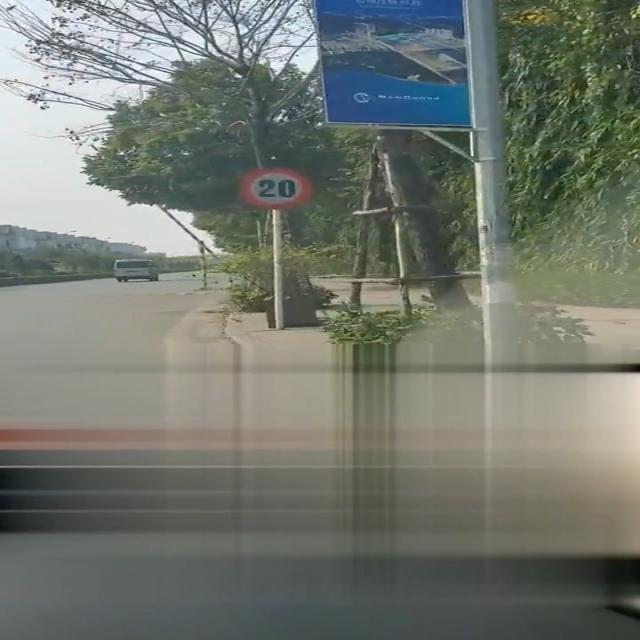127-toc-do-toi-da-20: (236, 167, 312, 210)
